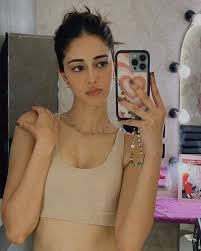Human_Female: (48, 12, 113, 249)
